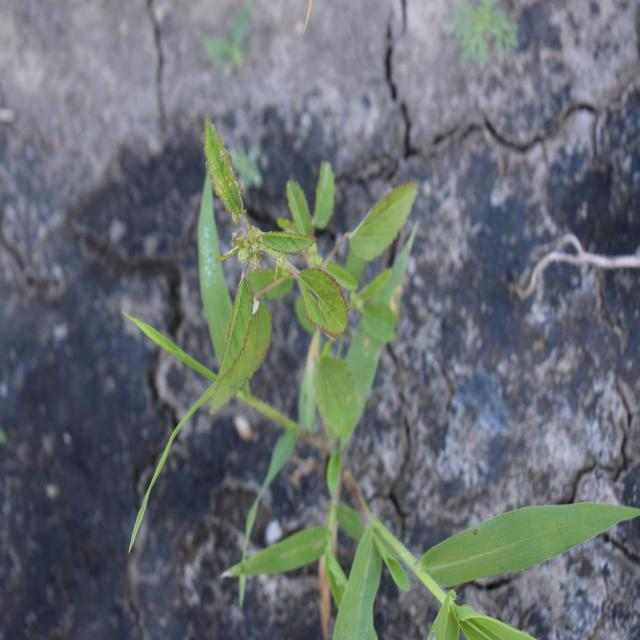PricklySida: (201, 114, 420, 440)
